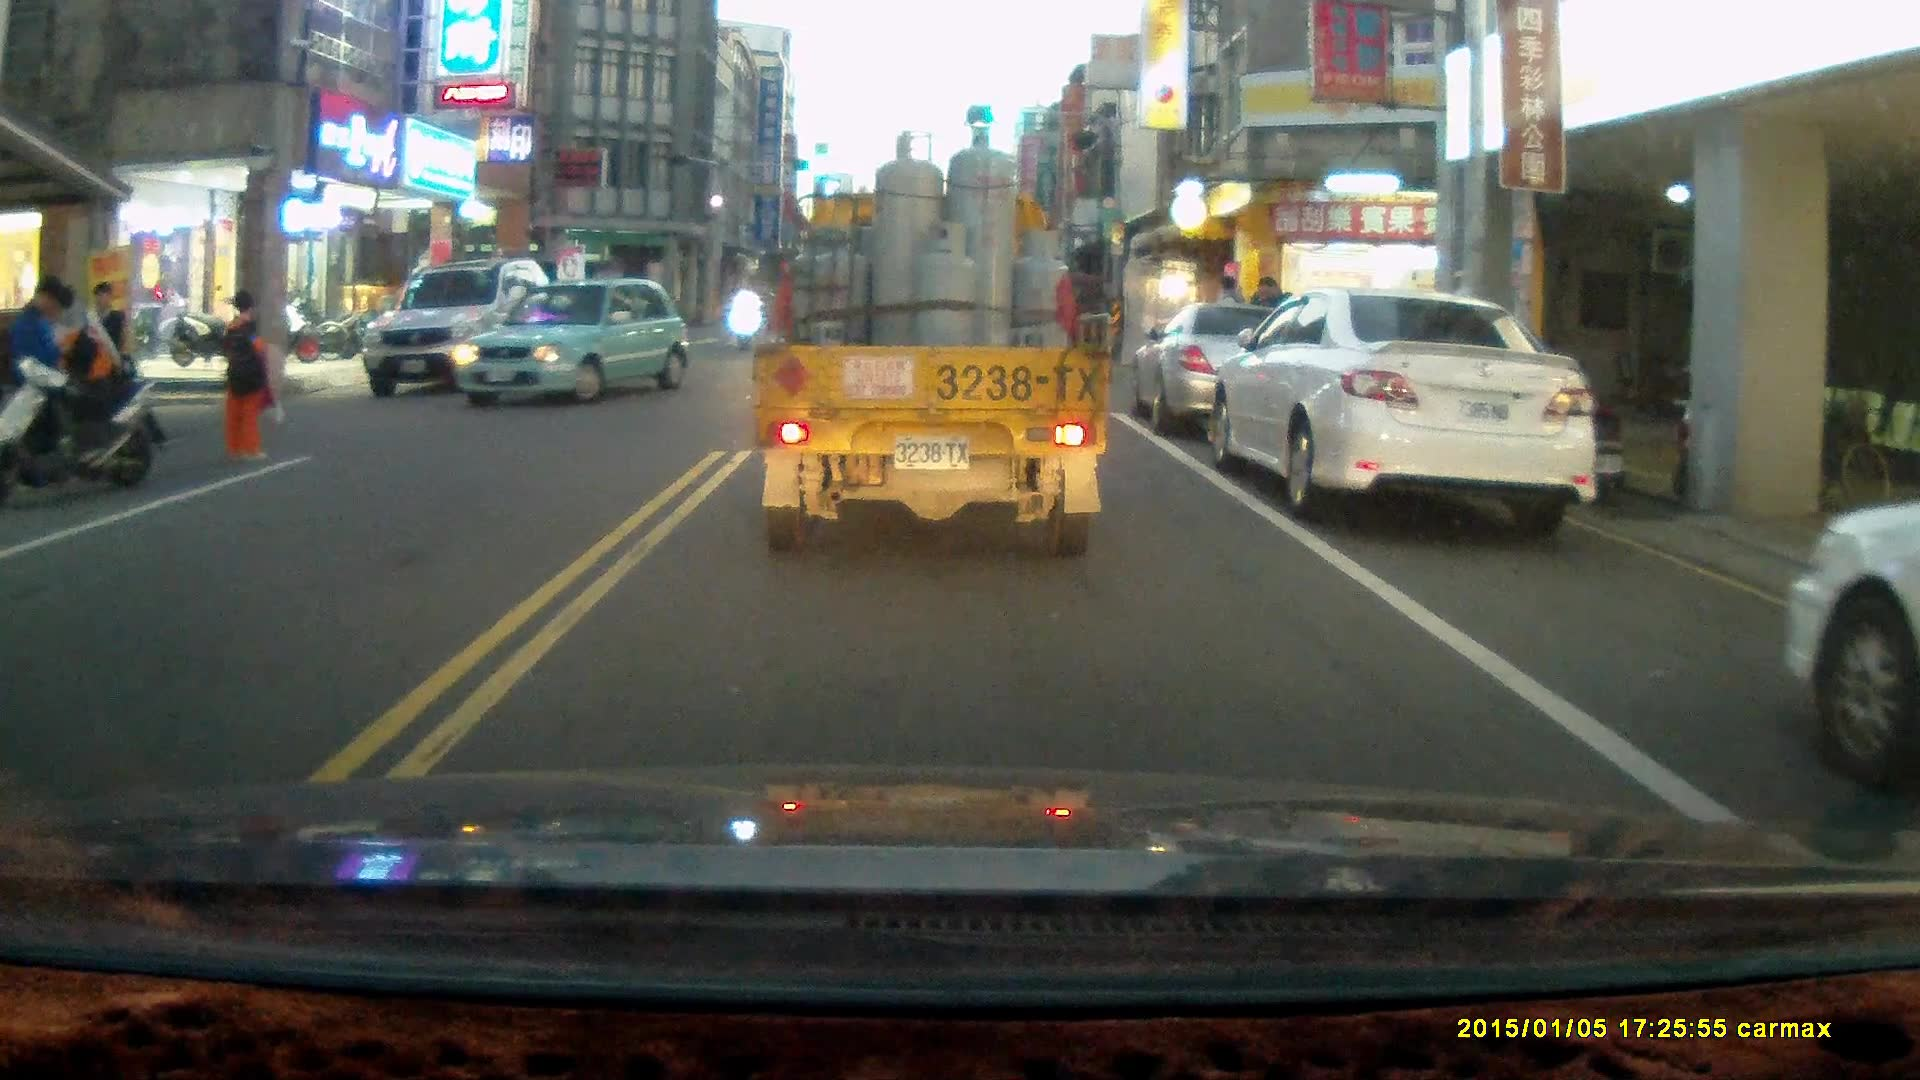pedestrian: (0, 274, 79, 470), (215, 286, 286, 461), (74, 280, 128, 430)
rider: (729, 285, 760, 354)
vehicle: (751, 121, 1112, 559), (1215, 282, 1605, 536), (1774, 467, 1920, 814), (1135, 298, 1394, 442), (452, 281, 696, 412), (364, 259, 568, 399)
